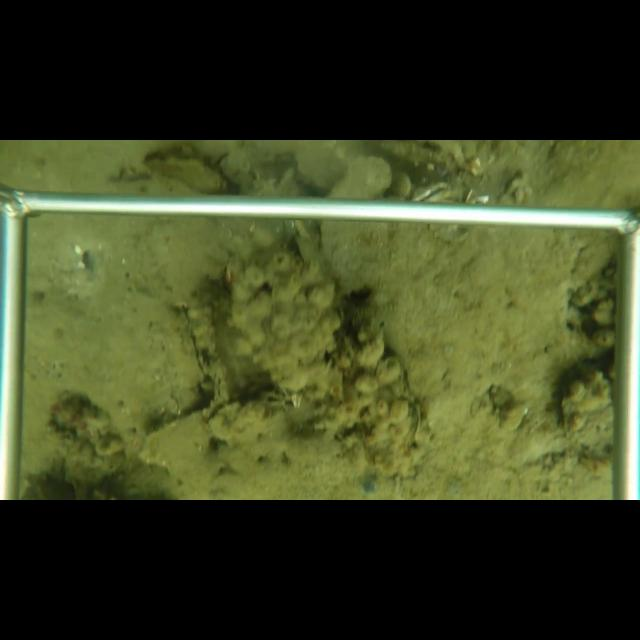Oyster-Closed: (168, 299, 217, 398), (138, 155, 229, 194), (321, 154, 391, 197), (293, 145, 344, 191)
Oyster-Open: (410, 180, 452, 200)
